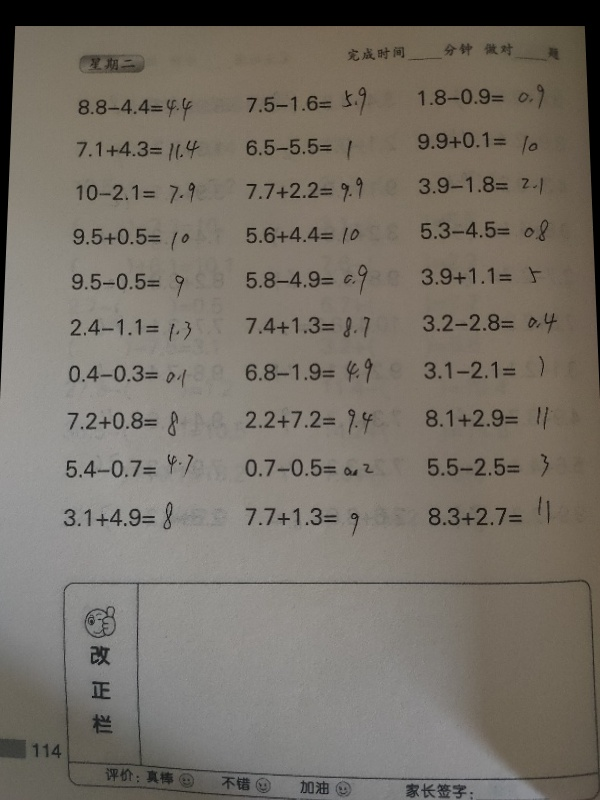equation: (235, 353, 389, 398), (51, 397, 196, 443), (420, 399, 567, 443), (410, 211, 558, 254), (418, 448, 570, 489), (412, 346, 550, 390), (408, 78, 555, 119), (241, 503, 406, 539), (422, 495, 556, 537), (417, 258, 555, 298), (57, 448, 214, 483), (240, 260, 378, 299), (229, 87, 376, 122), (69, 177, 210, 213), (230, 131, 370, 167), (411, 124, 546, 161), (415, 309, 571, 341), (237, 220, 387, 253), (70, 135, 207, 170), (237, 177, 378, 211), (239, 314, 379, 348), (58, 311, 198, 345), (235, 402, 379, 435), (69, 91, 204, 126), (67, 267, 196, 300), (60, 498, 177, 534), (412, 173, 555, 200), (63, 359, 190, 388), (241, 454, 377, 481), (68, 223, 192, 252)
